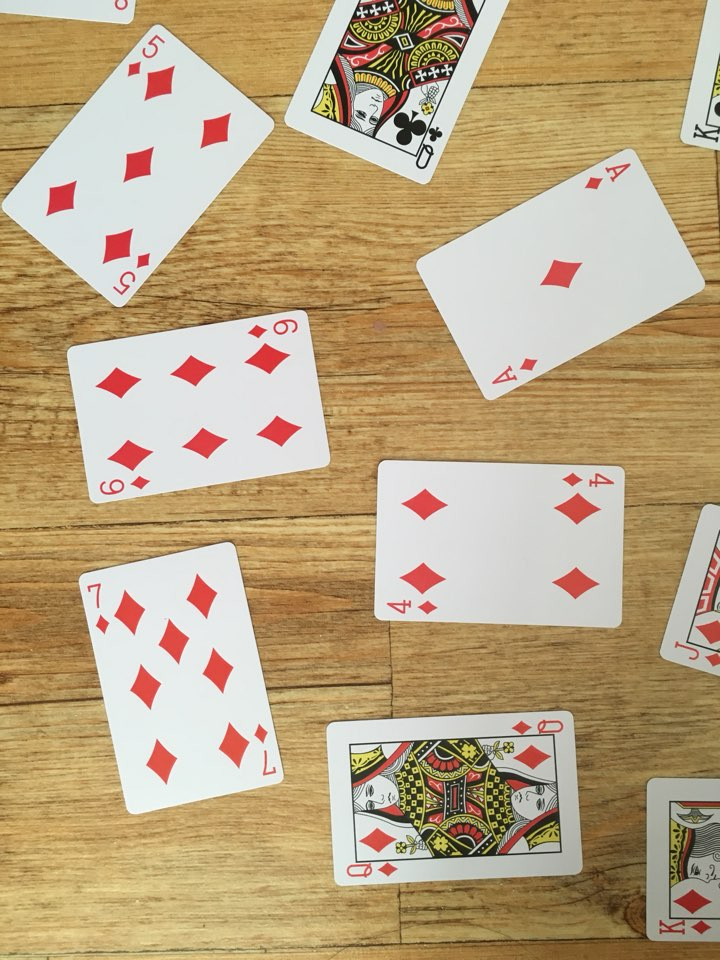ace: (418, 152, 710, 403)
jack: (653, 500, 720, 679)
king: (639, 769, 720, 946), (673, 2, 719, 162)
queen: (321, 712, 594, 881), (283, 1, 518, 190)
